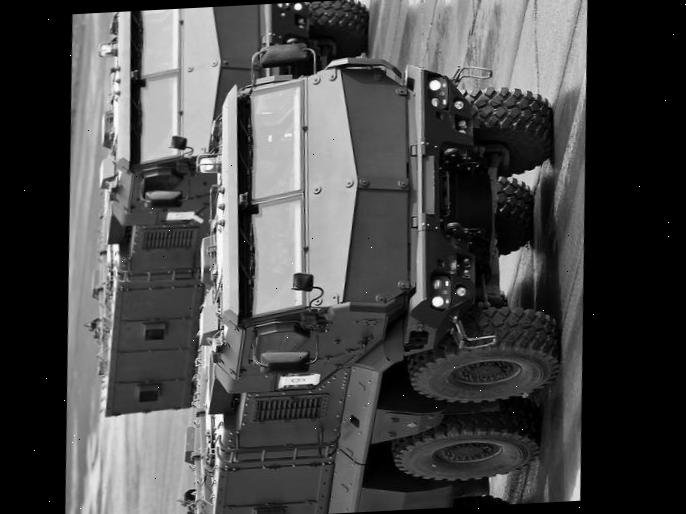truck: (157, 27, 592, 514), (60, 0, 390, 417)
